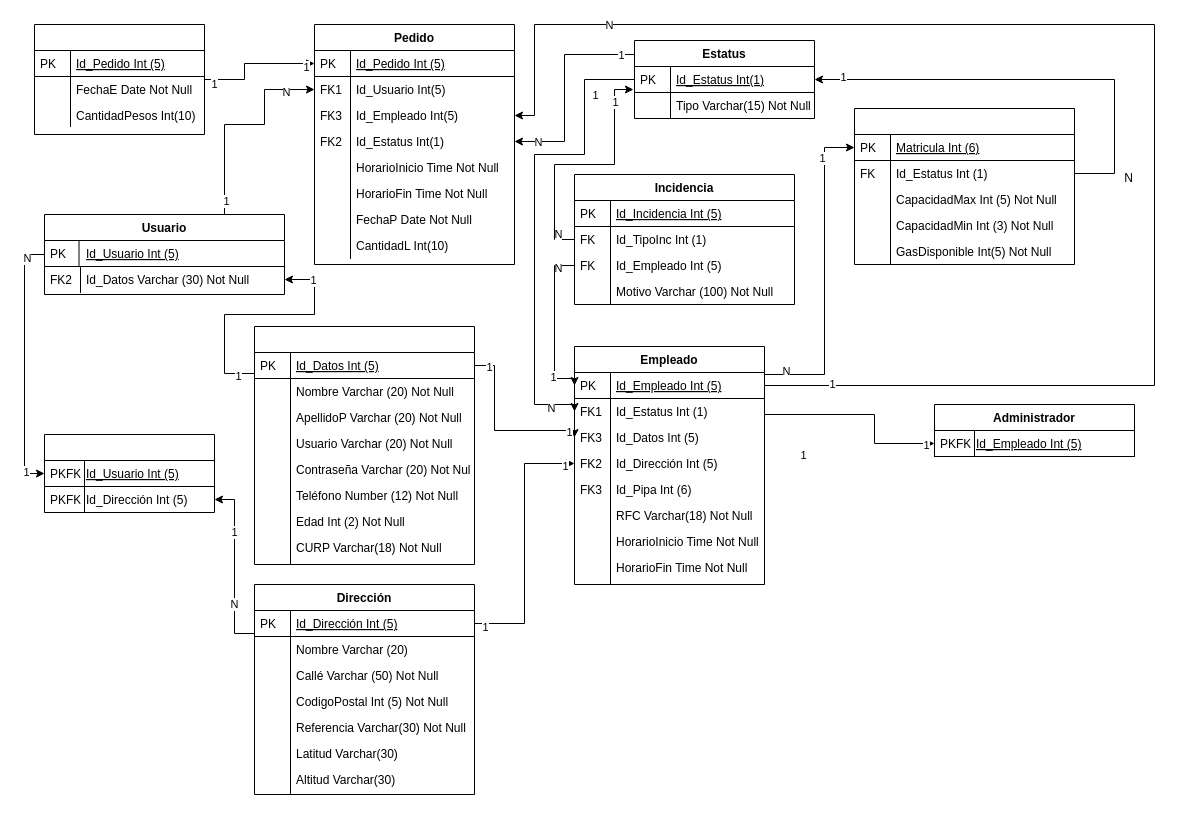
Image size: 1180x815. Some labels were removed from this diagram. Here are the shapes that lost their labels. From the top down, the box of each, then its label:
(34, 24, 204, 134): Historial
(854, 108, 1074, 264): Pipa
(254, 326, 474, 564): DatosPersonales
(44, 434, 214, 512): Usuario_Dirección
